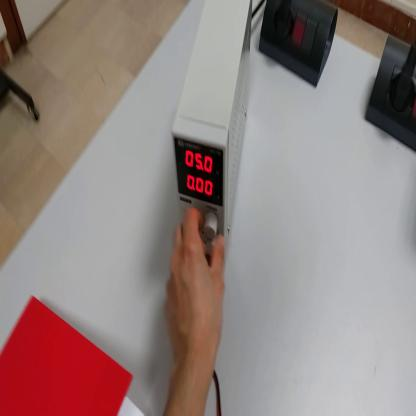hand: (165, 209, 226, 363)
power supply: (175, 2, 254, 260)
register: (1, 299, 145, 414)
socket: (259, 1, 341, 89), (364, 39, 416, 159)
